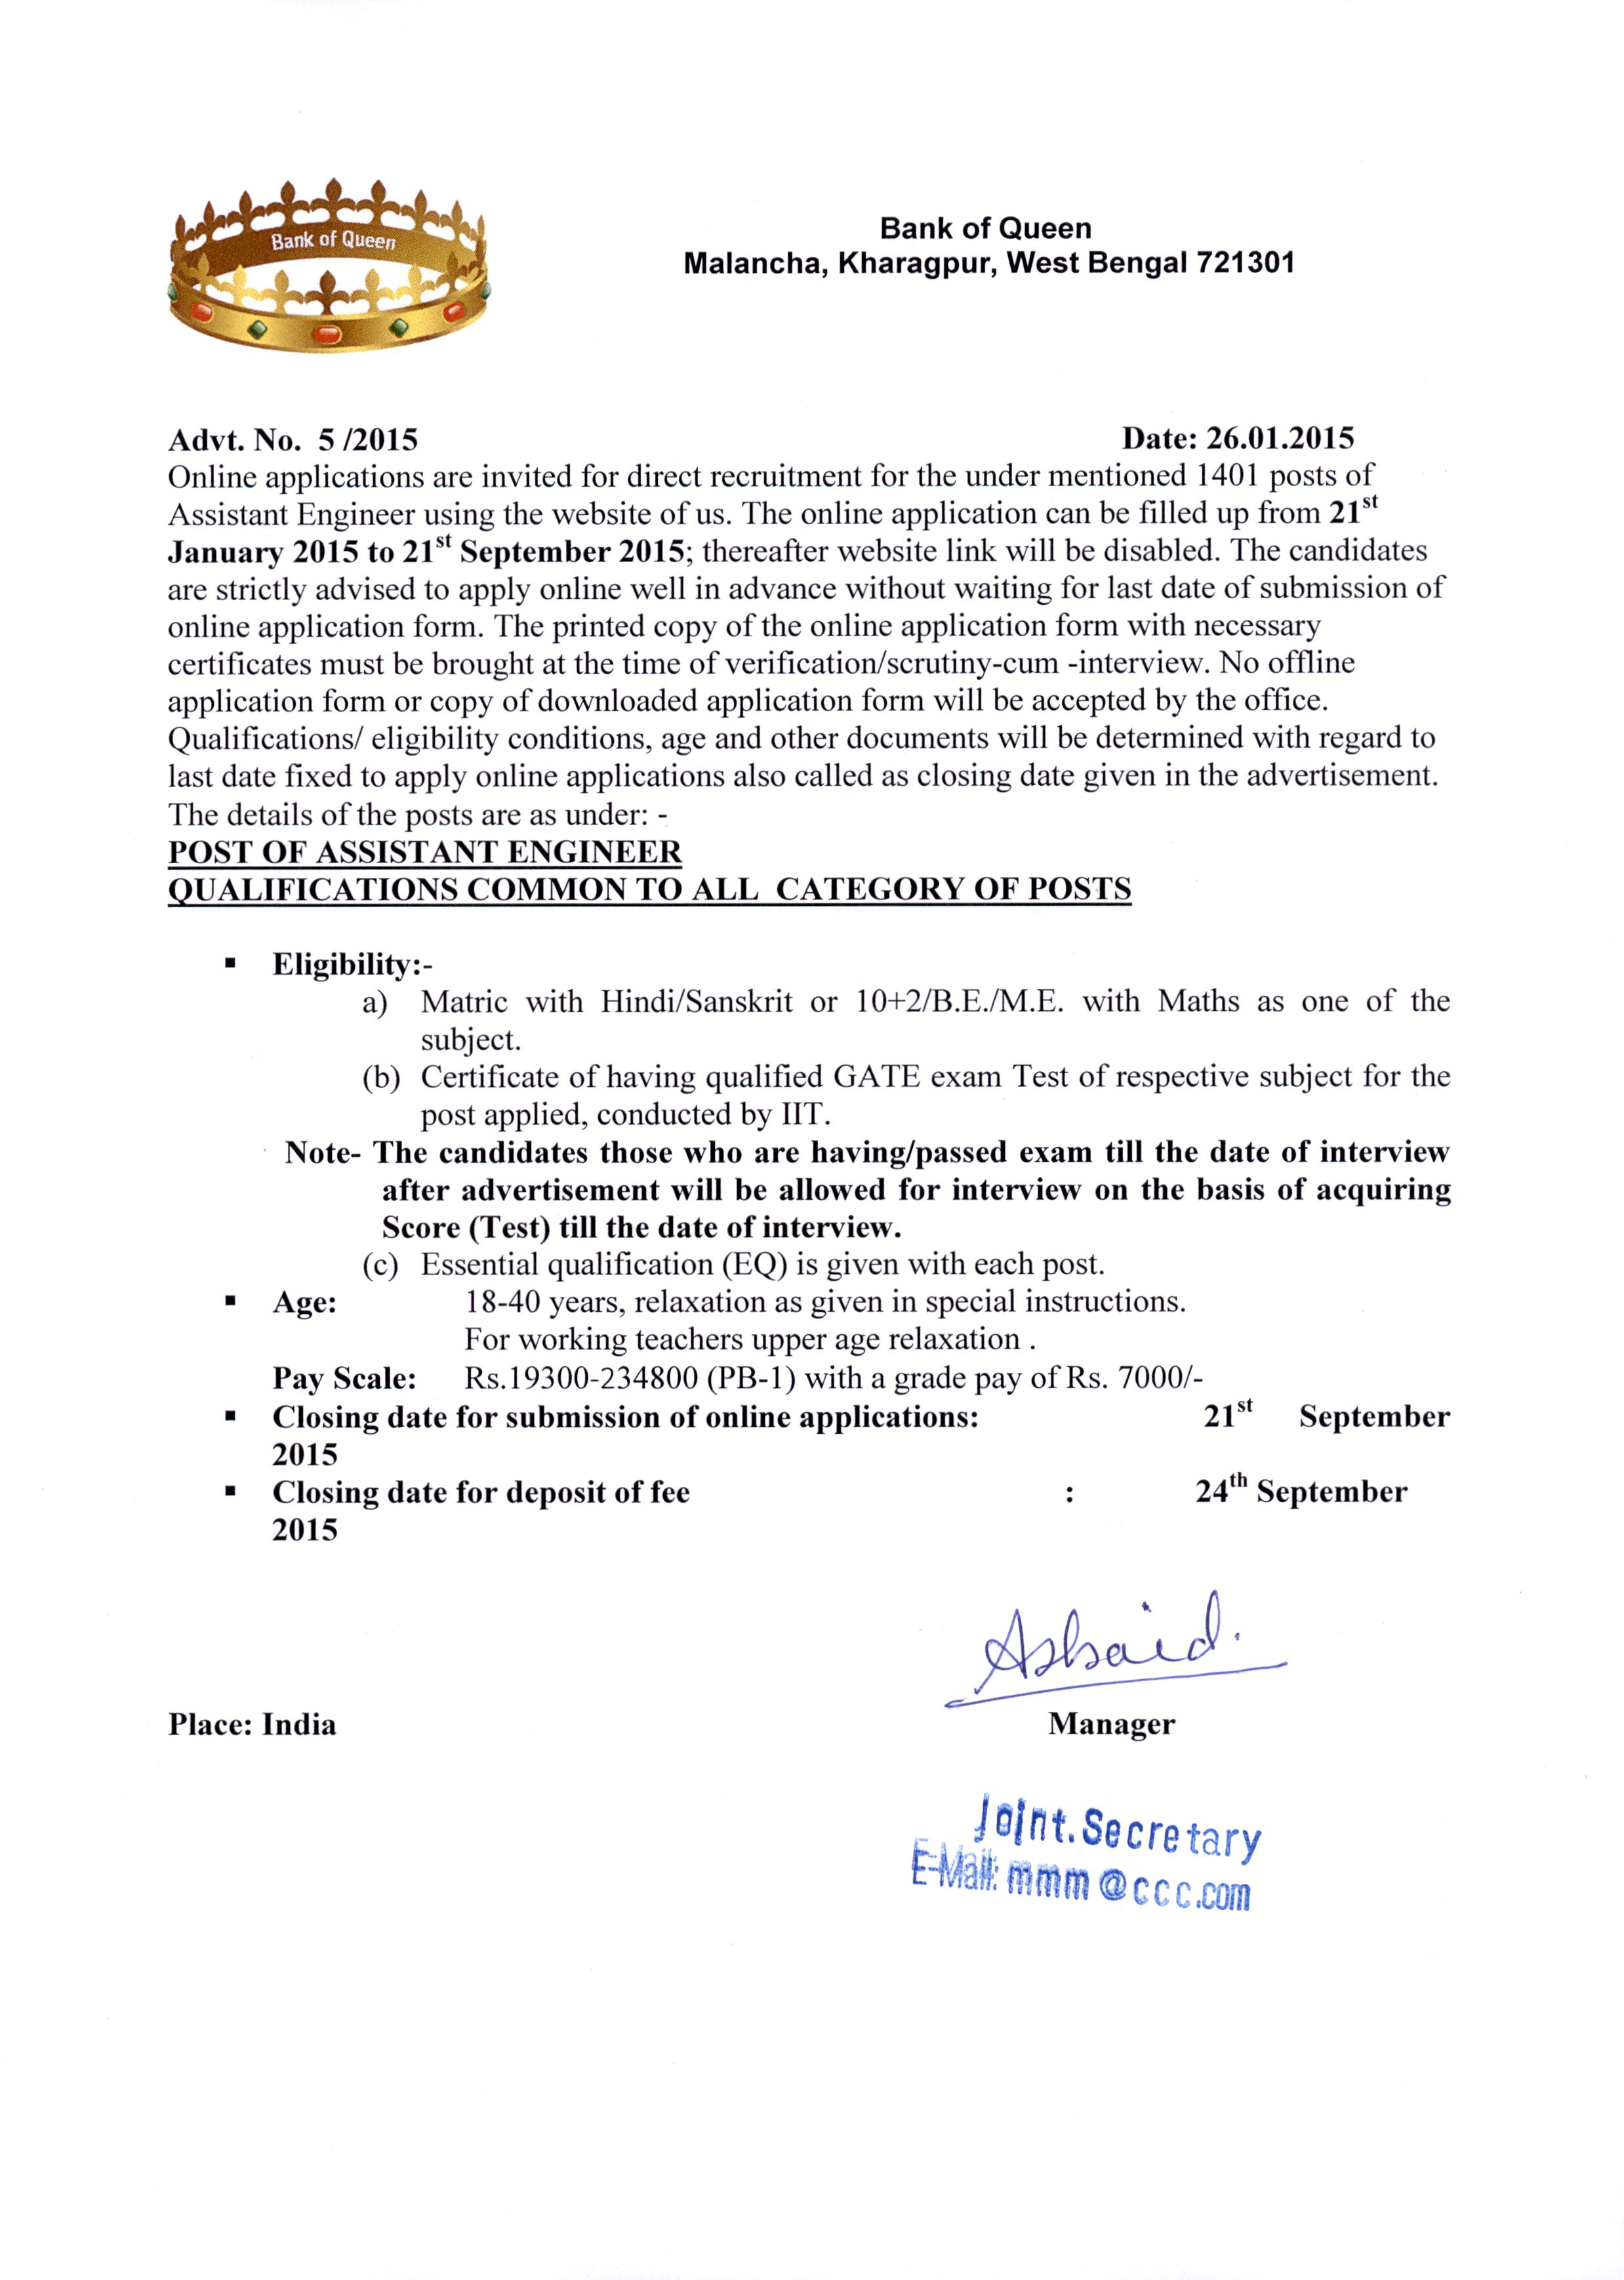Signature: (933, 1580, 1294, 1710)
